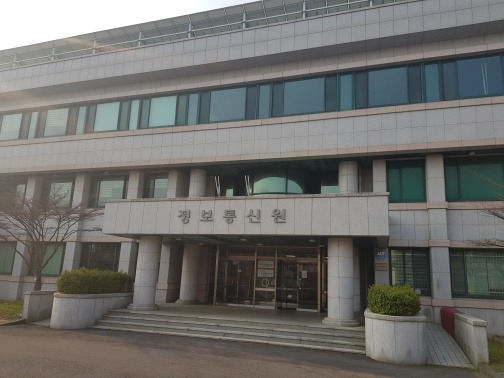Information Telecommunication Center: (13, 10, 495, 330), (136, 107, 364, 320), (214, 244, 328, 312), (164, 192, 323, 231)
